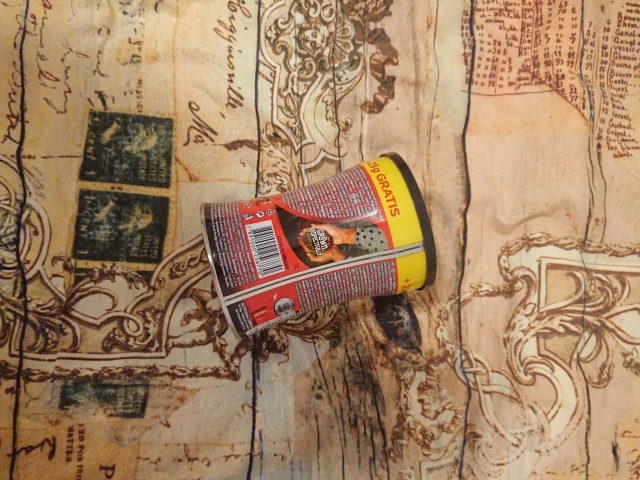Nescafe Classic 225g: (196, 147, 440, 343)
